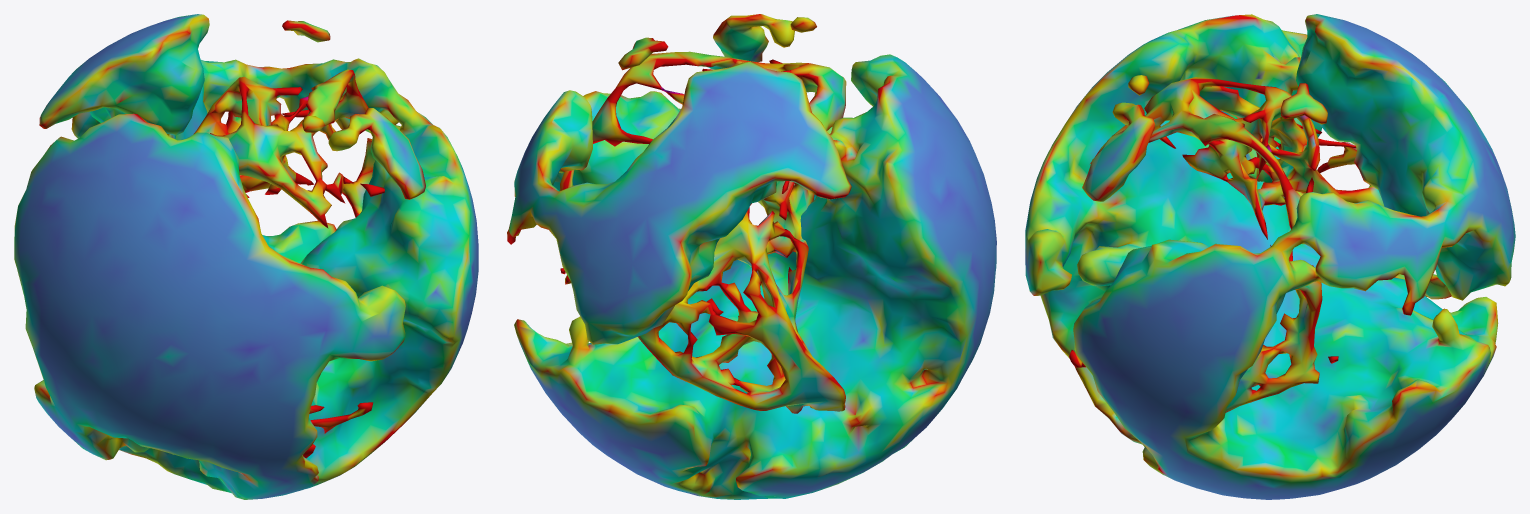
3 renders of one model, left to right at view 1: azimuth 30°, elevation 25°; view 2: azimuth 150°, elevation 25°; view 3: azimuth 270°, elevation 25°, orthographic.
Visible parts, largest first — view 1: geo; view 2: geo; view 3: geo.
Boxes of the visible parts, x1,y1,x2,y2 form: geo: (14, 14, 478, 499); geo: (507, 14, 996, 499); geo: (1025, 14, 1515, 499).
Size of the model in its own units: 2.02 by 1.99 by 2.02.
